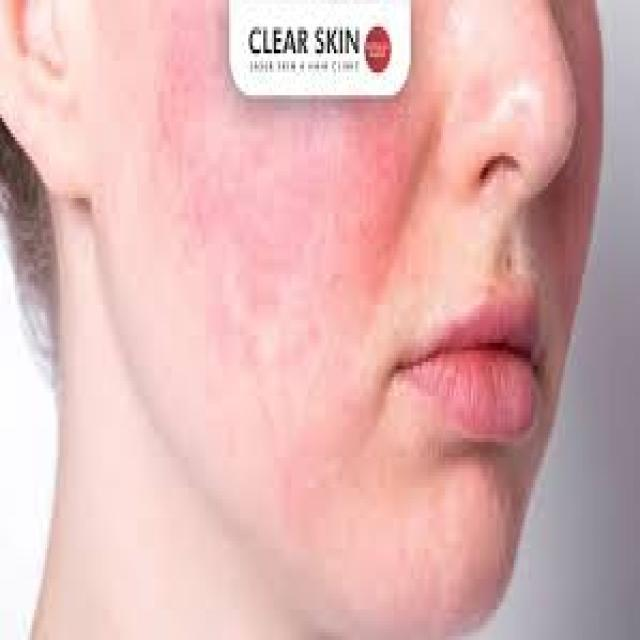Rosacea: (139, 88, 430, 392)
